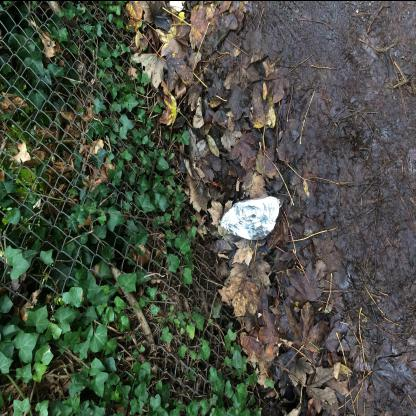metal: (219, 195, 280, 240)
